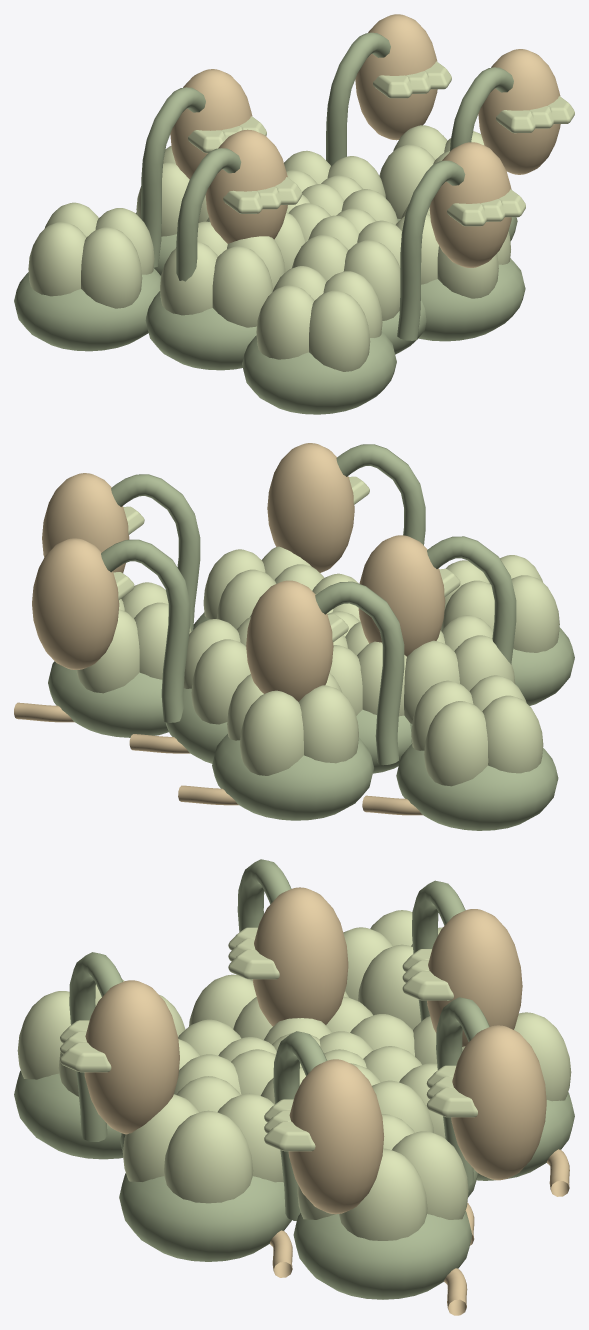
File: bio_oxygen_reef_03_near.glb
The picture shows the model from 3 angles, top to bottom: view 1: azimuth 30°, elevation 25°; view 2: azimuth 150°, elevation 25°; view 3: azimuth 270°, elevation 25°; orthographic projection. The views are drawn at different scales.
Visible parts, largest first — view 1: Lobed gas sac.028, Lobed gas sac.036, Lobed gas sac.016, Photosynthetic cushion.007, Photosynthetic cushion.009, Pendant spore capsule.002, Lobed gas sac.008, Pendant spore capsule.003, Pendant spore capsule, Pendant spore capsule.004, Photosynthetic cushion.004, Photosynthetic cushion.005 (+18 smaller); view 2: Lobed gas sac.036, Lobed gas sac.024, Pendant spore capsule.003, Pendant spore capsule.002, Pendant spore capsule.001, Photosynthetic cushion.009, Photosynthetic cushion.006, Pendant spore capsule.004, Lobed gas sac.028, Lobed gas sac.032, Lobed gas sac.016, Photosynthetic cushion.008 (+17 smaller); view 3: Lobed gas sac.020, Pendant spore capsule.003, Pendant spore capsule, Pendant spore capsule.002, Photosynthetic cushion.008, Lobed gas sac.032, Photosynthetic cushion.005, Pendant spore capsule.004, Pendant spore capsule.001, Lobed gas sac.036, Photosynthetic cushion.007, Lobed gas sac.012 (+20 smaller).
Boxes of the visible parts, x1,y1,x2,y2 form: Lobed gas sac.028: (256,266,382,371); Lobed gas sac.036: (28,202,154,308); Lobed gas sac.016: (160,221,285,327); Photosynthetic cushion.007: (242,331,396,414); Photosynthetic cushion.009: (14,268,160,351); Pendant spore capsule.002: (429,142,511,267); Lobed gas sac.008: (291,215,401,320); Pendant spore capsule.003: (355,14,437,140); Pendant spore capsule: (478,49,560,174); Pendant spore capsule.004: (205,129,287,243); Photosynthetic cushion.004: (145,291,256,370); Photosynthetic cushion.005: (418,258,525,341); Lobed gas sac.036: (411,675,543,786); Lobed gas sac.024: (227,673,358,775); Pendant spore capsule.003: (32,538,119,669); Pendant spore capsule.002: (267,443,354,572); Pendant spore capsule.001: (246,580,333,701); Photosynthetic cushion.009: (396,744,558,830); Photosynthetic cushion.006: (212,734,373,820); Pendant spore capsule.004: (358,535,445,656); Lobed gas sac.028: (440,555,559,652); Lobed gas sac.032: (76,582,191,693); Lobed gas sac.016: (404,615,515,723); Photosynthetic cushion.008: (48,661,168,737); Lobed gas sac.020: (123,1076,283,1203); Pendant spore capsule.003: (451,1025,546,1180); Pendant spore capsule: (288,1059,384,1214); Pendant spore capsule.002: (84,980,179,1134); Photosynthetic cushion.008: (293,1211,472,1299); Lobed gas sac.032: (297,1114,468,1240); Photosynthetic cushion.005: (119,1173,291,1261); Pendant spore capsule.004: (253,887,348,1026); Pendant spore capsule.001: (427,909,522,1046); Lobed gas sac.036: (343,910,442,1029); Photosynthetic cushion.007: (14,1070,123,1159); Lobed gas sac.012: (350,1046,445,1138).
Bounding box in the file's own units: 1.92 × 0.7745 × 1.51.
